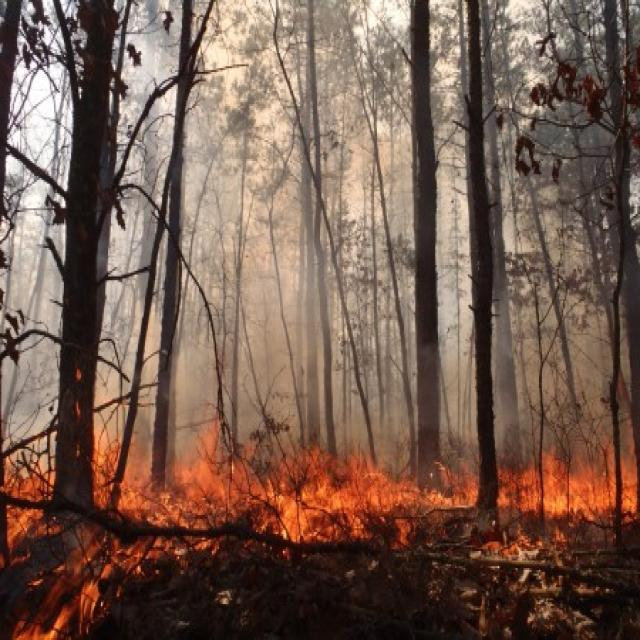fire: (0, 338, 640, 640)
